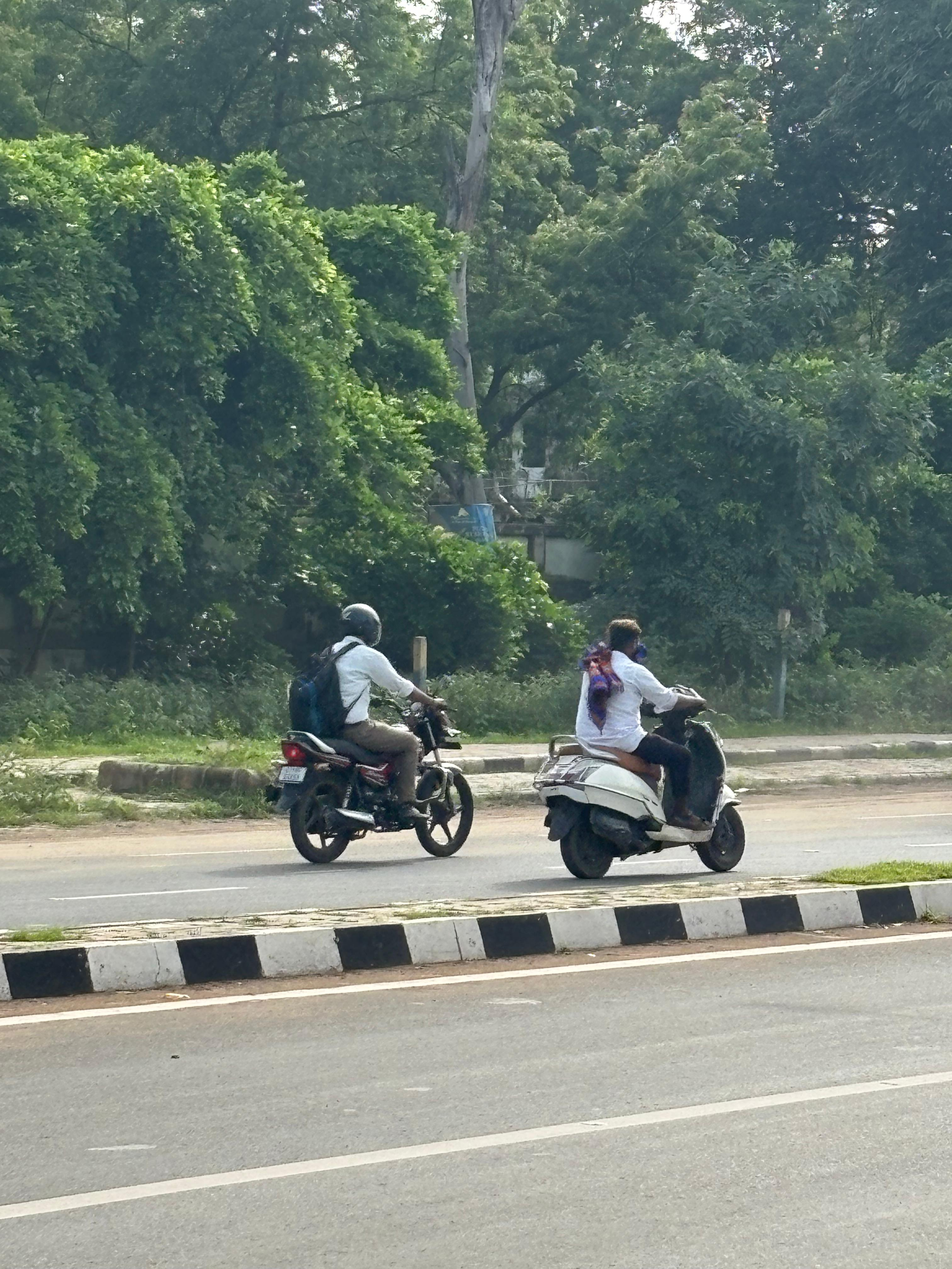BikeWithRider: (523, 610, 755, 887), (263, 596, 484, 871)
Helmet: (332, 597, 388, 653)
NoHelmet: (600, 612, 649, 664)
